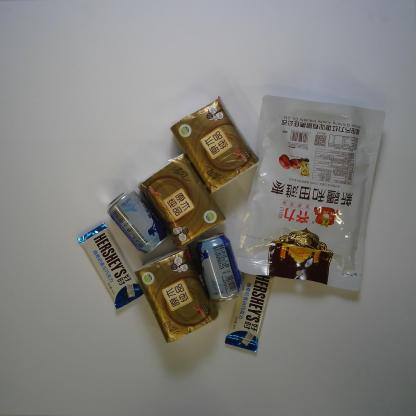Alcohol: (103, 188, 170, 256), (193, 232, 245, 304)
Chocolate: (76, 222, 144, 310), (224, 271, 274, 355)
Dried Food: (232, 93, 387, 297)
Tissue: (168, 94, 262, 198), (136, 150, 228, 251), (129, 244, 220, 346)
